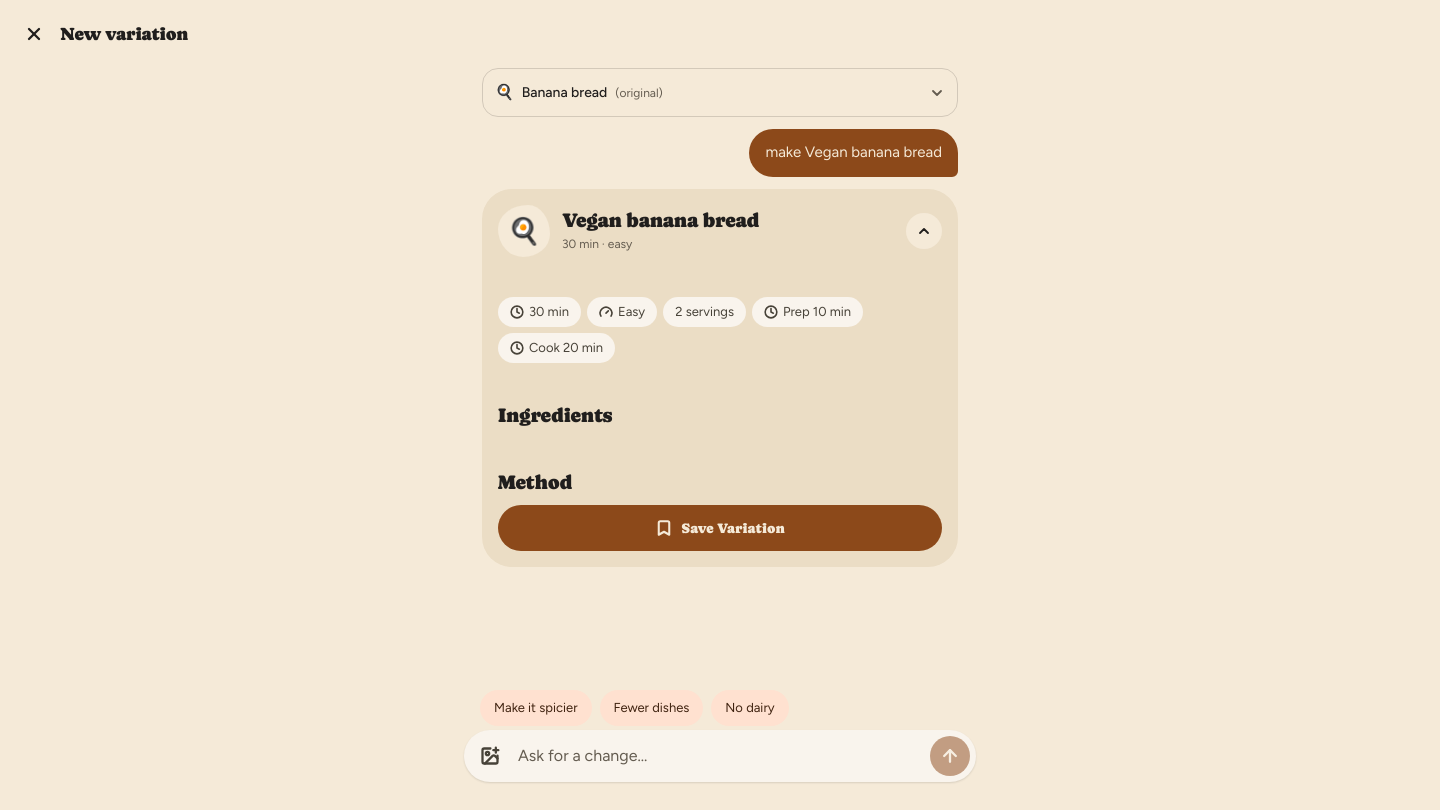
Scenario: RecipeChatPage branch composer (/recipe/:id/vary) › Close still guards an unsaved variation
The width and height of the screenshot is (1440, 810).
Click the button named "Close" at (34, 34), box left=12, top=12, right=56, bottom=56
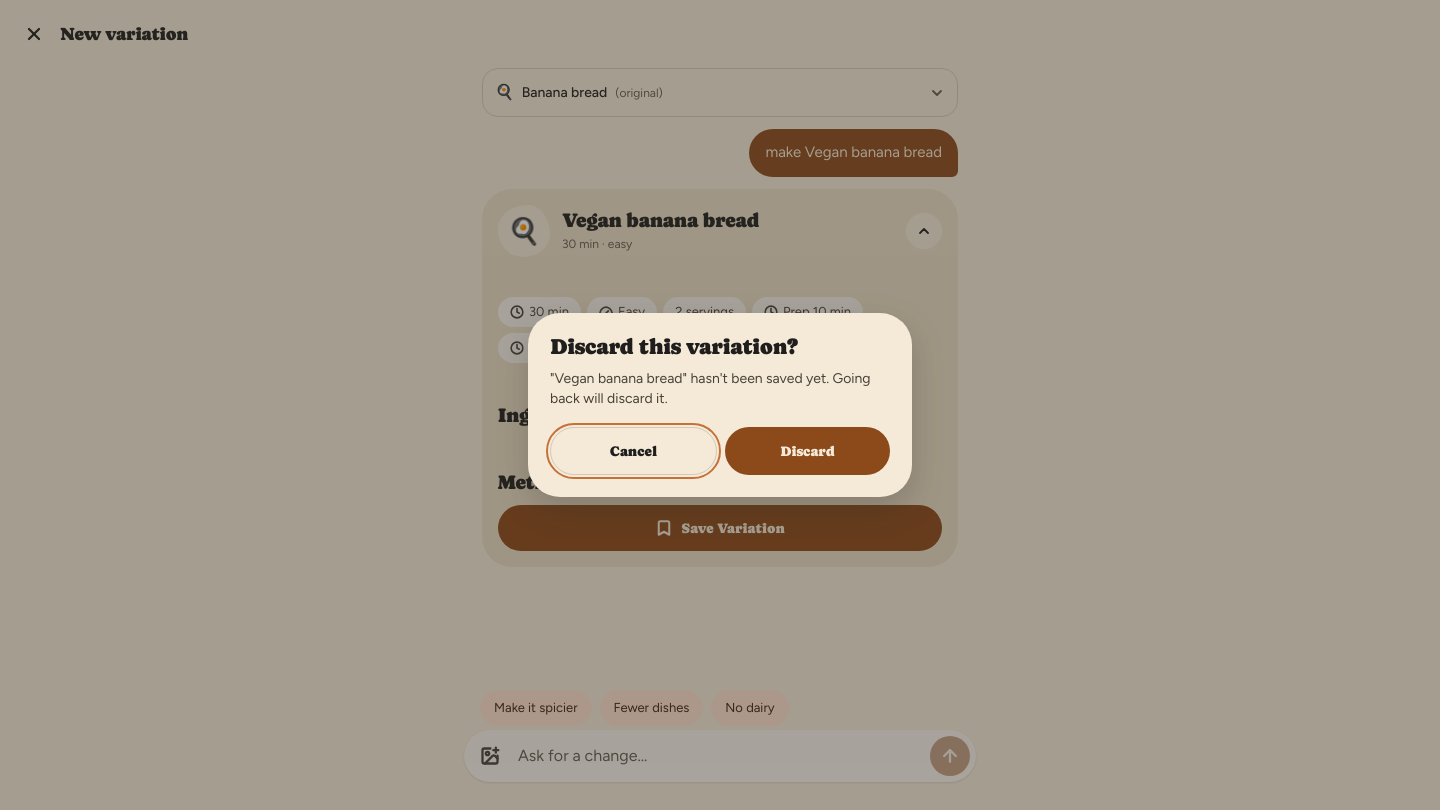
expect the dialog "Discard this variation?" is shown: met, box left=528, top=313, right=912, bottom=497
